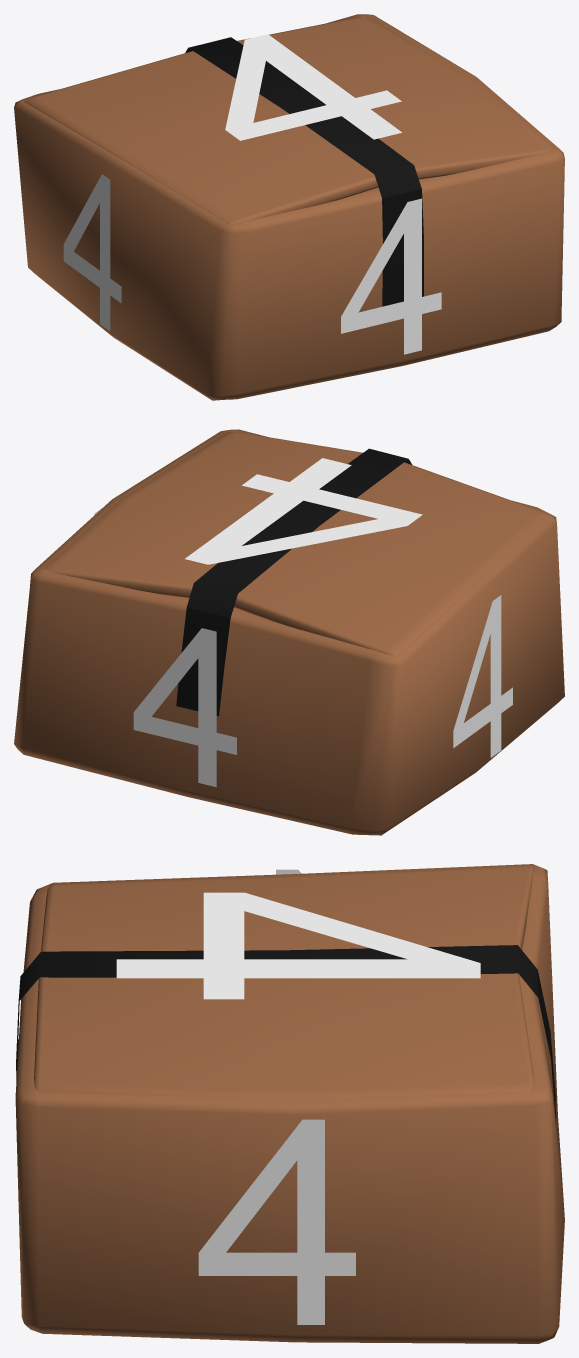
Rendered from Parcel_v1_4.FBX.
3 views of the same model, one above another, from view 1: azimuth 30°, elevation 25°; view 2: azimuth 150°, elevation 25°; view 3: azimuth 270°, elevation 25° (orthographic). The views are drawn at different scales.
Visible parts, largest first — view 1: Box027; view 2: Box027; view 3: Box027.
Part boxes in pixels (x1,y1,x2,y2): Box027: (14, 14, 564, 400); Box027: (14, 429, 564, 835); Box027: (15, 864, 564, 1343).
Size of the model in its own units: 66.3 by 34.84 by 61.66.
